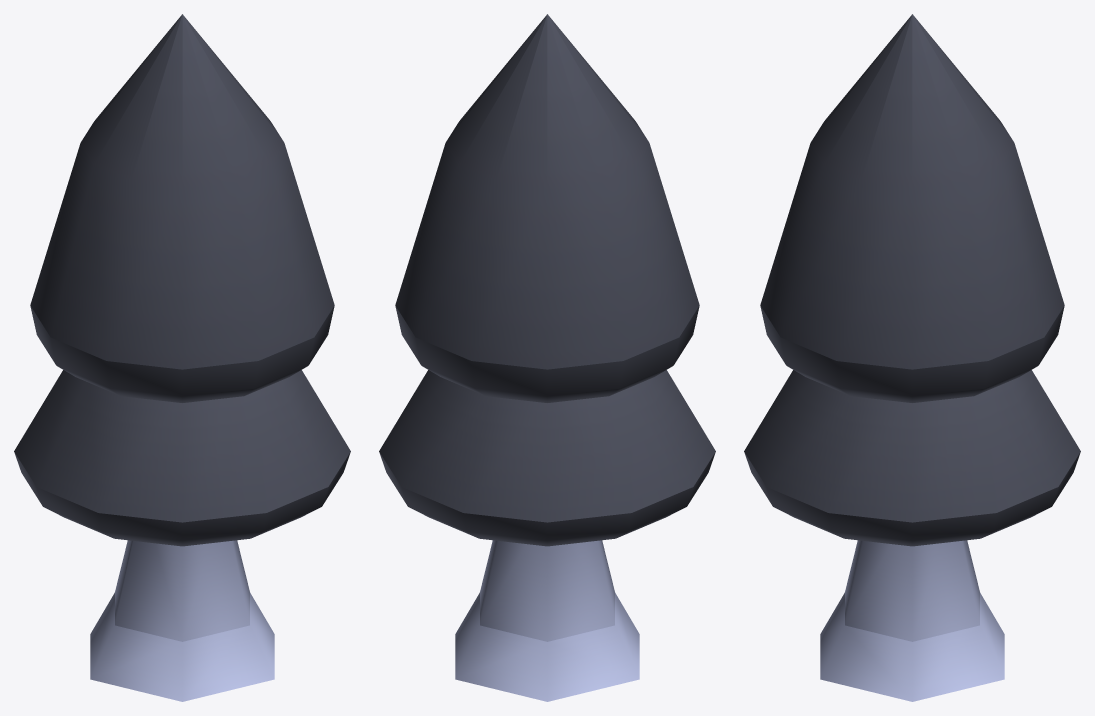
Rendered from tree-pine-snow.glb.
3 renders of one model, left to right at view 1: azimuth 30°, elevation 25°; view 2: azimuth 150°, elevation 25°; view 3: azimuth 270°, elevation 25°, orthographic.
Parts seen in each view (by area): view 1: tree-pine-snow; view 2: tree-pine-snow; view 3: tree-pine-snow.
Part boxes in pixels (x1=…): tree-pine-snow: x1=14, y1=14, x2=350, y2=701; tree-pine-snow: x1=379, y1=14, x2=715, y2=701; tree-pine-snow: x1=744, y1=14, x2=1080, y2=701.
Bounding box in the file's own units: 0.9485 × 2 × 0.9485.
